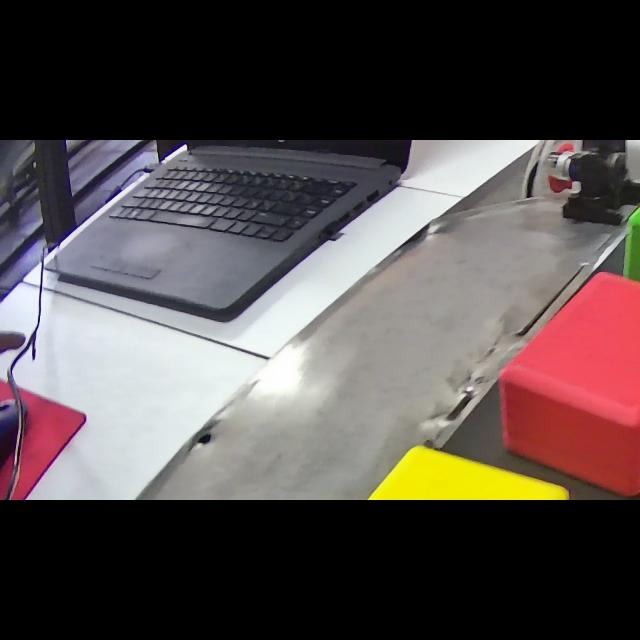greenBox: (624, 150, 640, 316)
redBox: (496, 268, 640, 500)
yellowBox: (296, 442, 574, 500)
